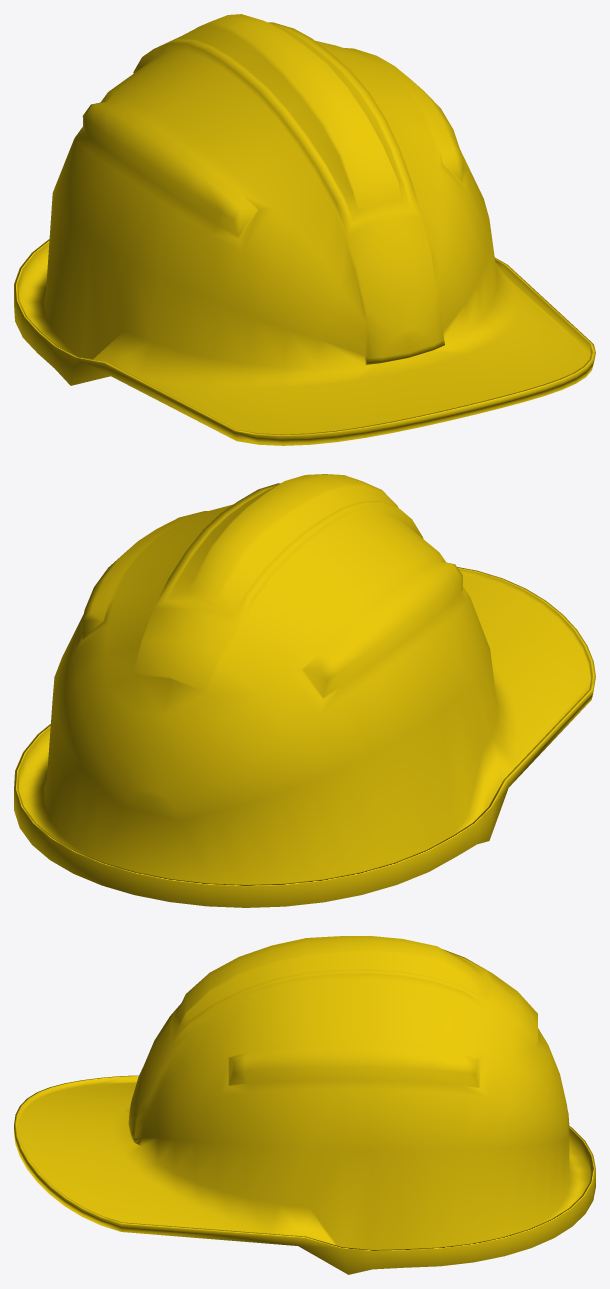
File: Helm.fbx
3 renders of one model, top to bottom at view 1: azimuth 30°, elevation 25°; view 2: azimuth 150°, elevation 25°; view 3: azimuth 270°, elevation 25°, orthographic. The views are drawn at different scales.
Parts seen in each view (by area): view 1: Helmet; view 2: Helmet; view 3: Helmet.
Part boxes in pixels (left/top/right/bottom): Helmet: left=14, top=14, right=595, bottom=445; Helmet: left=14, top=474, right=595, bottom=907; Helmet: left=14, top=936, right=595, bottom=1274.
Bounding box in the file's own units: 17.31 × 11.46 × 24.39.
